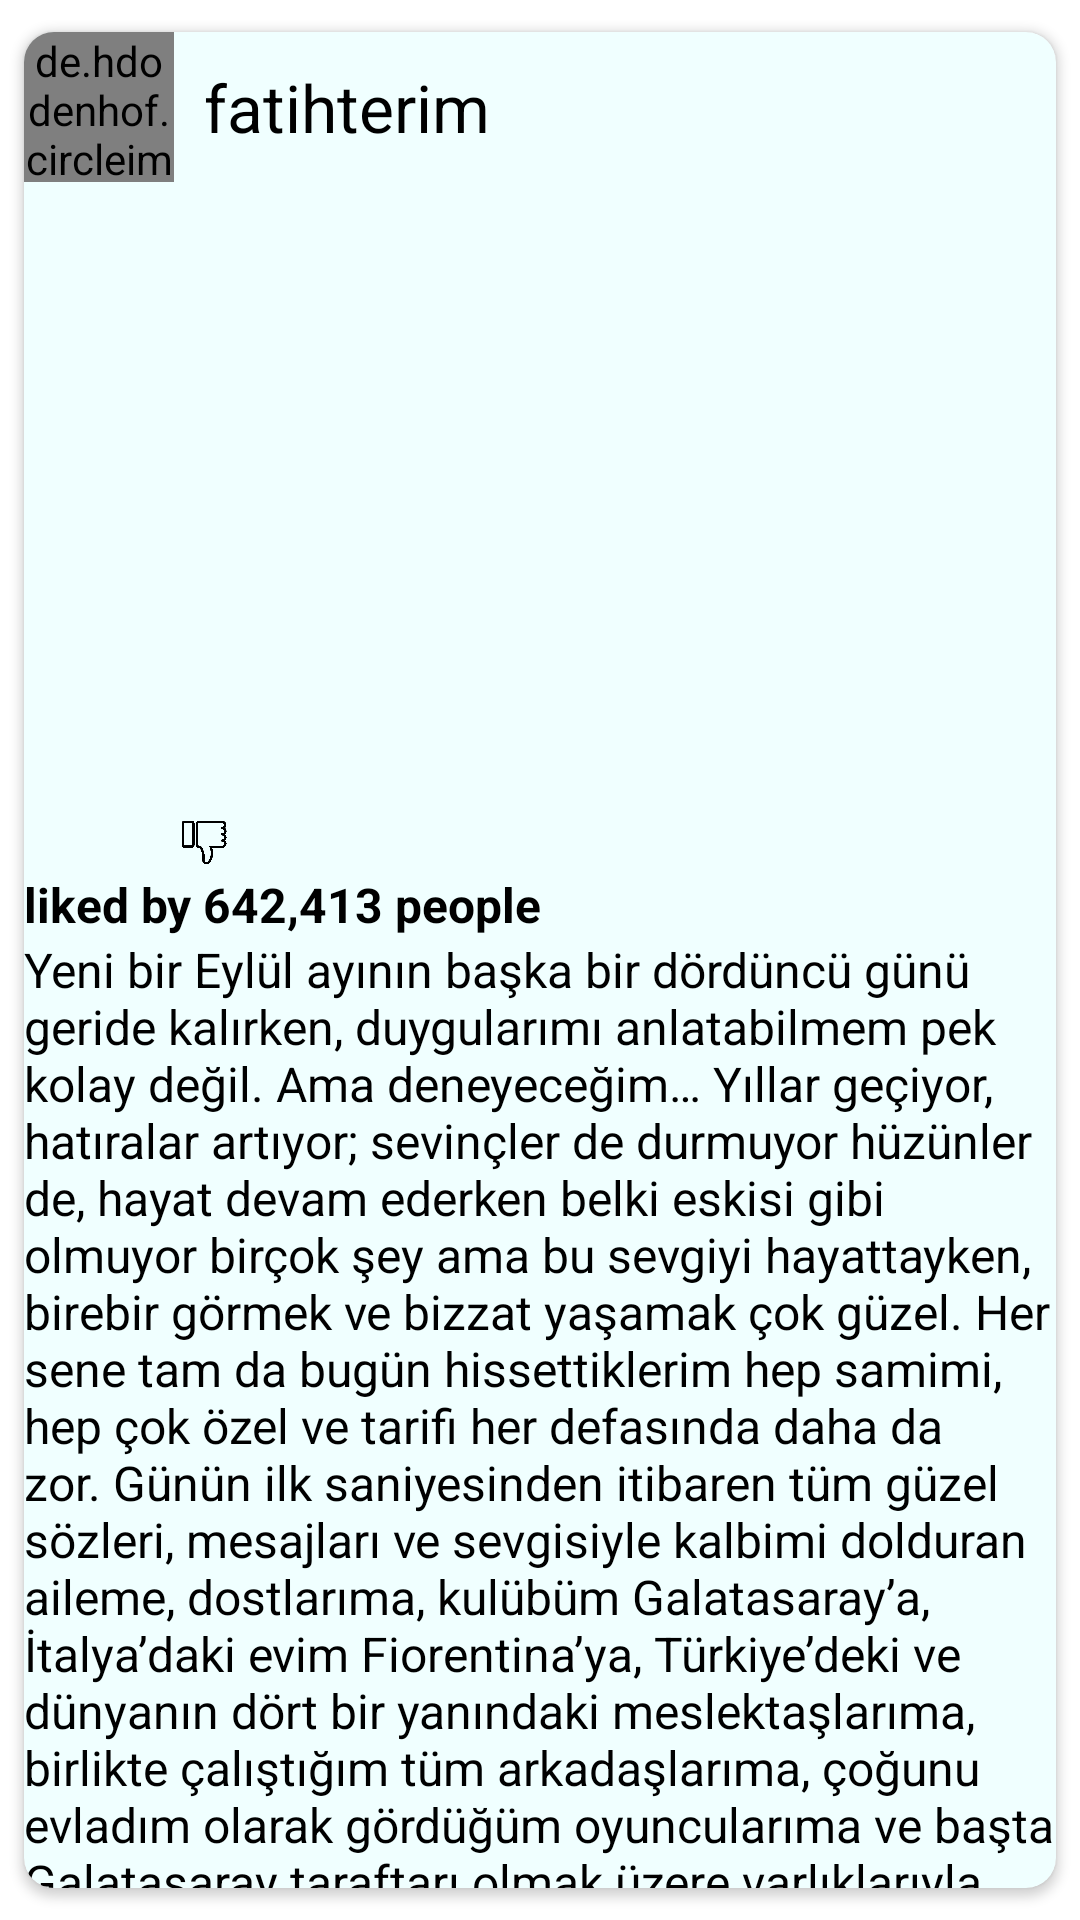

Locate icon controls on the screen. Image size 1080px x 1920px, boxes as (x1, y1, x2, y2).
unlike: (182, 821, 227, 864)
